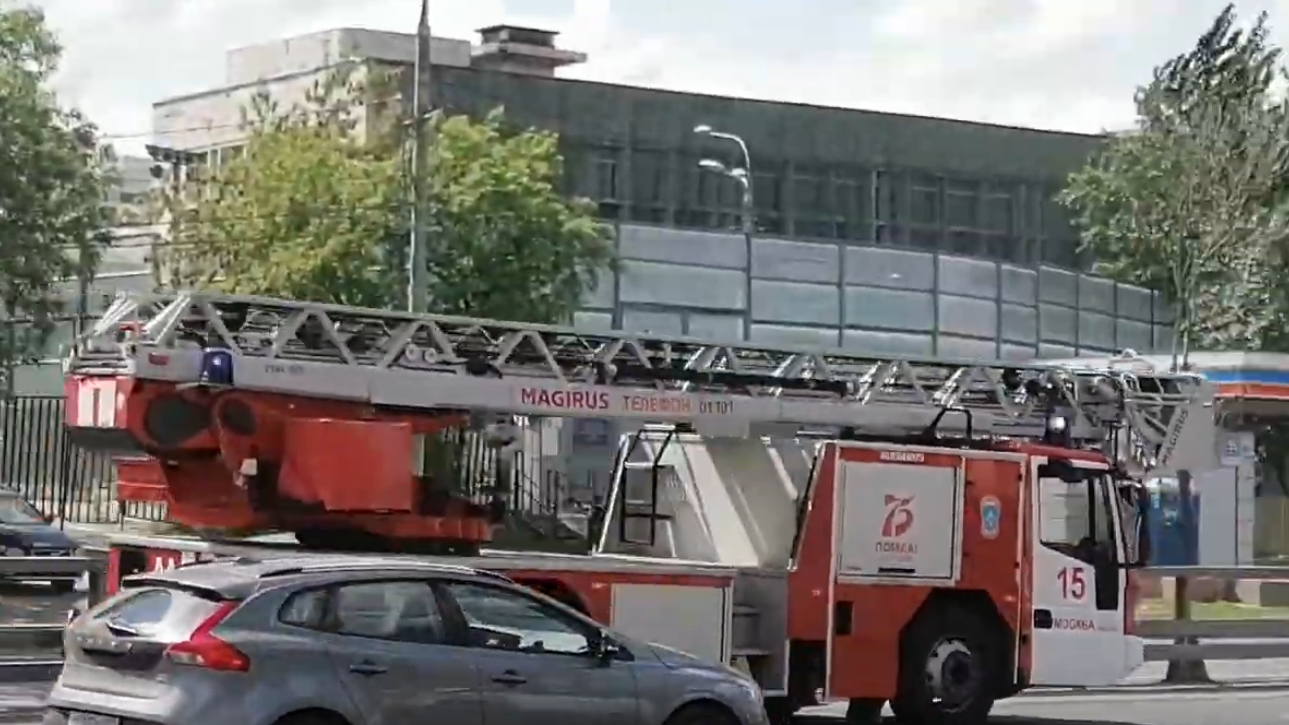fire fighting vehicle: (50, 287, 1210, 722)
non emergency car: (46, 552, 773, 721), (0, 479, 88, 593)
